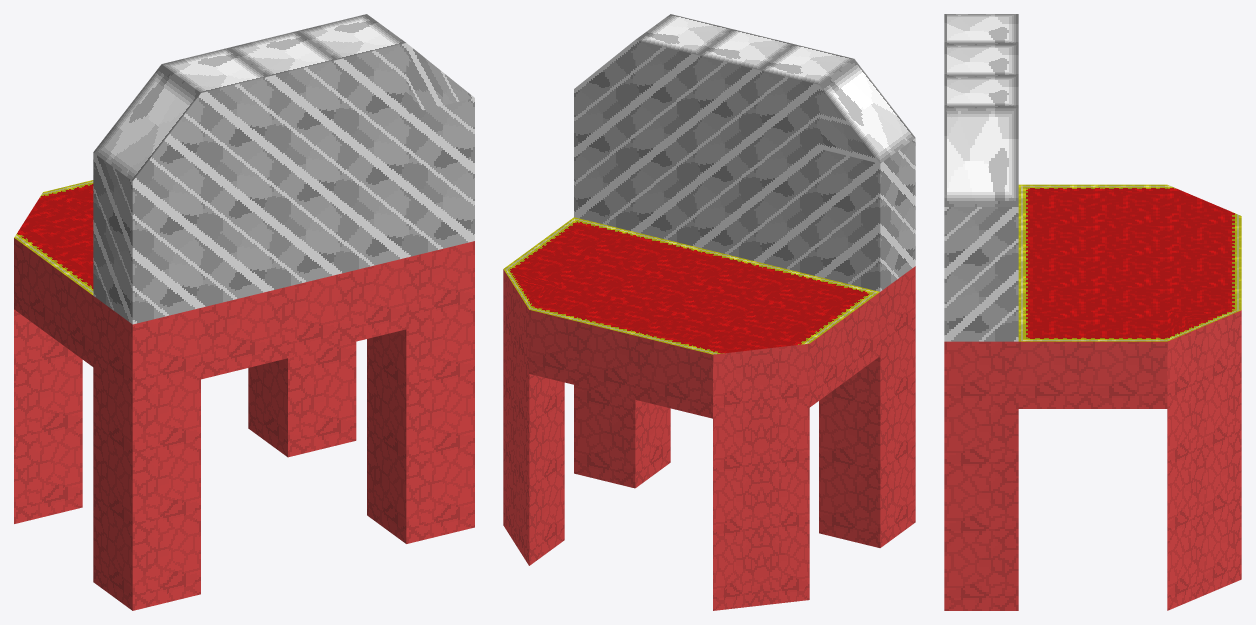
File: Throne.gltf
3 renders of one model, left to right at view 1: azimuth 30°, elevation 25°; view 2: azimuth 150°, elevation 25°; view 3: azimuth 270°, elevation 25°, orthographic. The views are drawn at different scales.
Visible parts, largest first — view 1: BACKREST, LEGD, LEG, LEGDDD, CUBE1, LEGDD; view 2: BACKREST, CUBE1, LEGDDD, LEGD, LEGDD, LEG; view 3: CUBE1, BACKREST, LEGDD, LEG.
Part boxes in pixels (x1,y1,x2,y2): BACKREST: [93, 14, 474, 395]; LEGD: [93, 367, 200, 610]; LEG: [367, 312, 474, 543]; LEGDDD: [14, 309, 82, 523]; CUBE1: [14, 180, 93, 366]; LEGDD: [248, 341, 356, 457]; BACKREST: [574, 14, 915, 355]; CUBE1: [503, 217, 880, 418]; LEGDDD: [713, 407, 809, 610]; LEGD: [819, 330, 915, 547]; LEGDD: [503, 333, 564, 565]; LEG: [574, 385, 670, 488]; CUBE1: [1018, 184, 1241, 408]; BACKREST: [944, 14, 1018, 408]; LEGDD: [1167, 377, 1241, 610]; LEG: [944, 409, 1018, 610].
Size of the model in its own units: 5 by 7 by 4.
Materials: 1 (1 with a texture image).
